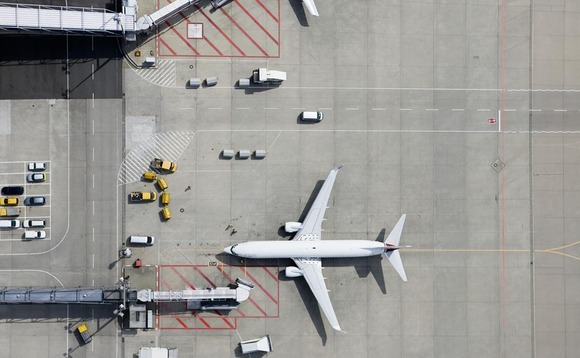aircraft: (221, 164, 412, 336)
